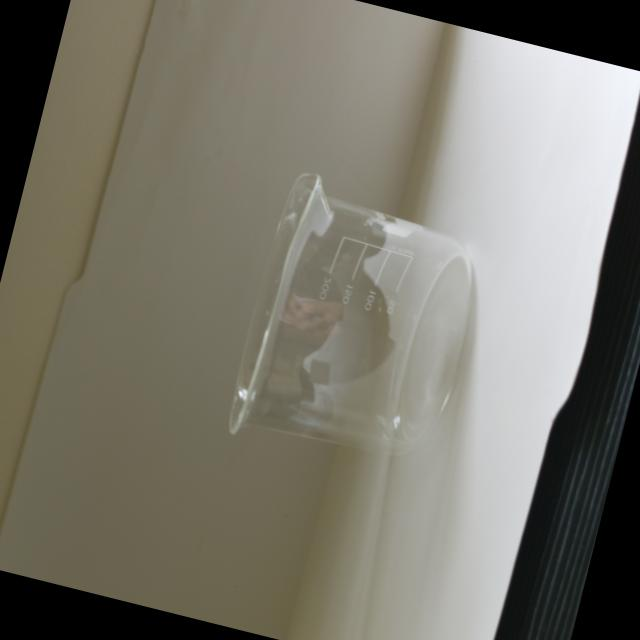beaker: (215, 158, 502, 490)
